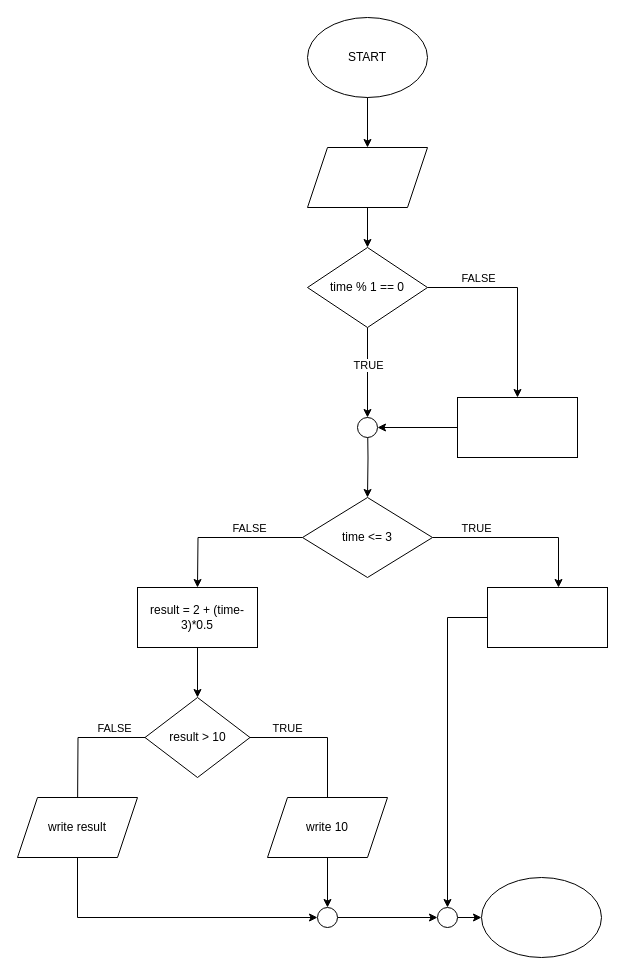
Some shapes in this 625 by 975 pixel diagram are drawn without their labels. The box of each missing label's shape, as (x1, y1, x2, y2) in pixels:
END: (480, 876, 602, 958)
read time: (306, 146, 428, 208)
time = (time // 1) + 1: (456, 396, 578, 458)
Write 2: (486, 586, 608, 648)
